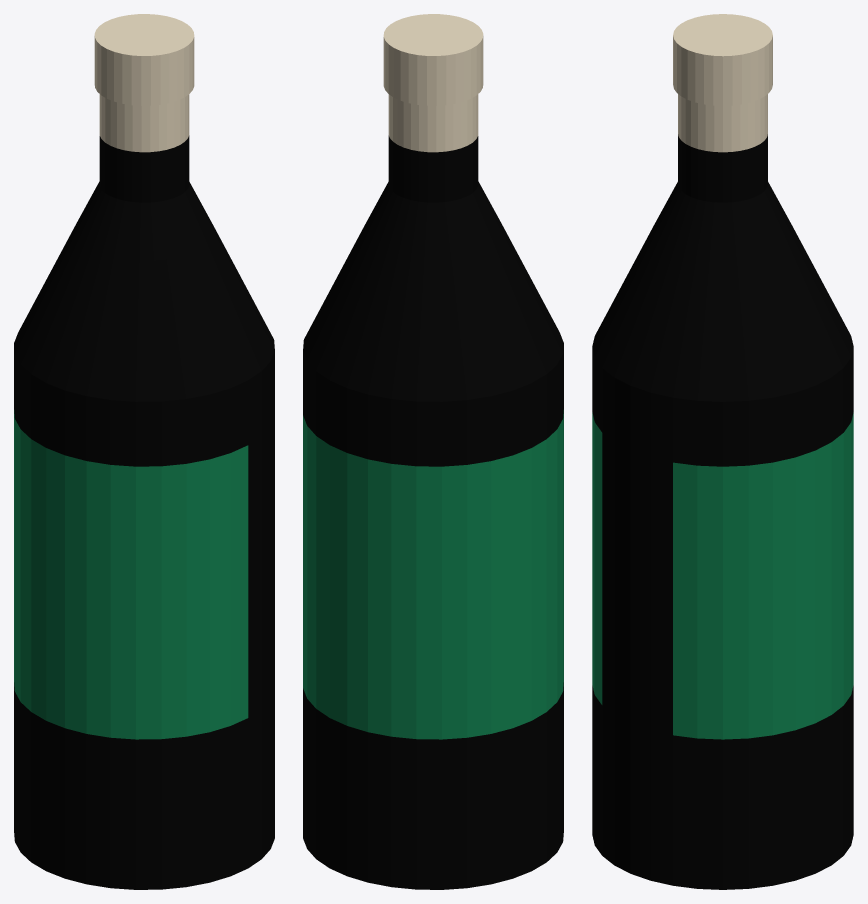
File: WineBottleV3.fbx
3 renders of one model, left to right at view 1: azimuth 30°, elevation 25°; view 2: azimuth 150°, elevation 25°; view 3: azimuth 270°, elevation 25°, orthographic.
Visible parts, largest first — view 1: Cylinder; view 2: Cylinder; view 3: Cylinder.
Boxes of the visible parts, box(x1,y1,x2,y2) form: Cylinder: box(14, 14, 274, 889); Cylinder: box(303, 14, 563, 889); Cylinder: box(592, 14, 853, 889).
Bounding box in the file's own units: 128 × 128 × 433.
